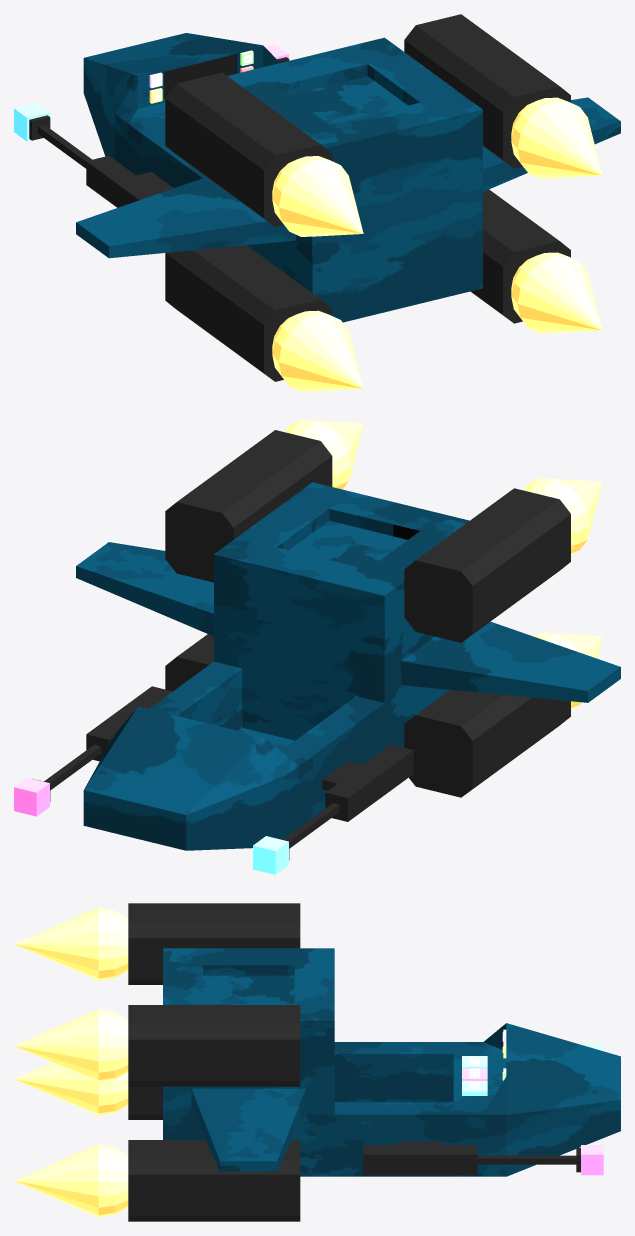
Rendered from ship.glb.
The picture shows the model from 3 angles, top to bottom: view 1: azimuth 30°, elevation 25°; view 2: azimuth 150°, elevation 25°; view 3: azimuth 270°, elevation 25°; orthographic projection. The views are drawn at different scales.
Parts seen in each view (by area): view 1: ship, ship-engines, ship-glow-bottom.R, ship-glow-bottom.L, ship-glow-top.R, ship-glow-top.L, ship-guns, ship-screen, ship-laser.L; view 2: ship, ship-engines, ship-guns, ship-glow-top.L, ship-glow-top.R, ship-laser.L, ship-laser.R, ship-glow-bottom.L; view 3: ship, ship-engines, ship-glow-bottom.R, ship-glow-top.L, ship-glow-top.R, ship-guns, ship-glow-bottom.L, ship-laser.R.
Part boxes in pixels (x1,y1,x2,y2): ship: (76,33,620,322); ship-engines: (165,14,570,381); ship-glow-bottom.R: (511,252,602,333); ship-glow-bottom.L: (272,310,363,391); ship-glow-top.R: (511,97,602,178); ship-glow-top.L: (272,156,363,236); ship-guns: (29,57,289,207); ship-screen: (164,54,236,98); ship-laser.L: (14,103,49,141); ship: (76,482,620,850); ship-engines: (165,430,570,797); ship-guns: (32,686,413,860); ship-glow-top.L: (523,478,602,553); ship-glow-top.R: (284,420,363,489); ship-laser.L: (253,836,288,874); ship-laser.R: (14,777,49,816); ship-glow-bottom.L: (533,633,602,708); ship: (163,948,620,1176); ship-engines: (128,903,300,1221); ship-glow-bottom.R: (14,1144,128,1217); ship-glow-top.L: (14,907,128,980); ship-glow-top.R: (14,1009,128,1082); ship-guns: (363,1141,580,1175); ship-glow-bottom.L: (14,1062,128,1115); ship-laser.R: (581,1145,603,1175).
Bounding box in the file's own units: 2.25 × 0.97 × 2.65.
12 materials, 1 textured.
